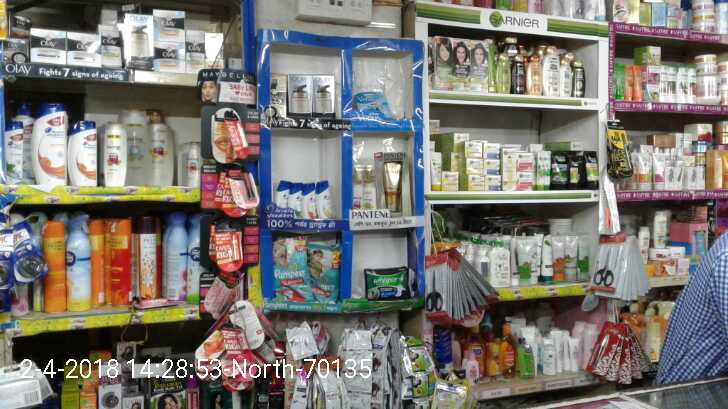ambipureVesus: (65, 212, 93, 311), (164, 214, 186, 300), (188, 213, 199, 304)
venus: (356, 89, 394, 118)
